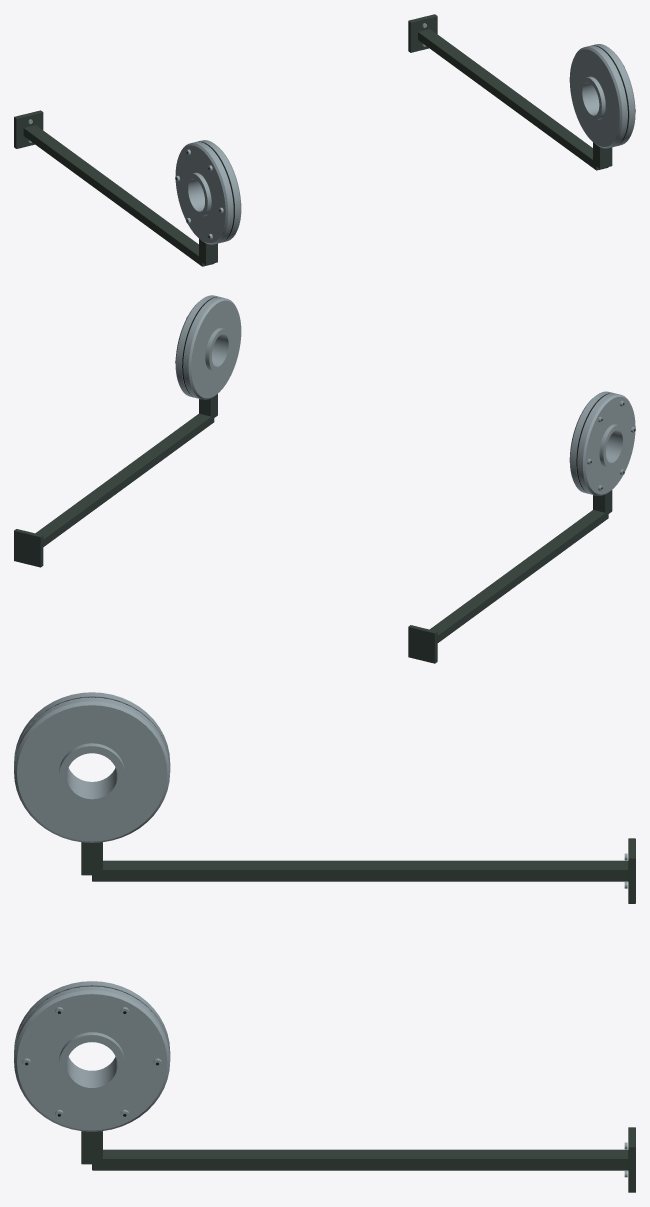
File: aerosense_uvc_static_detail_dark_v1.glb
The picture shows the model from 3 angles, top to bottom: view 1: azimuth 30°, elevation 25°; view 2: azimuth 150°, elevation 25°; view 3: azimuth 270°, elevation 25°; orthographic projection. The views are drawn at different scales.
Visible parts, largest first — view 1: UV_Flange_Left | batch Fluid | source_satin_steel, UV_Flange_Right | batch Fluid | source_satin_steel, UV_Mount_Right | batch Fluid | dark_structural_steel, UV_Mount_Left | batch Fluid | dark_structural_steel; view 2: UV_Flange_Right | batch Fluid | source_satin_steel, UV_Flange_Left | batch Fluid | source_satin_steel, UV_Mount_Left | batch Fluid | dark_structural_steel, UV_Mount_Right | batch Fluid | dark_structural_steel; view 3: UV_Flange_Left | batch Fluid | source_satin_steel, UV_Flange_Right | batch Fluid | source_satin_steel, UV_Mount_Right | batch Fluid | dark_structural_steel, UV_Mount_Left | batch Fluid | dark_structural_steel.
Part boxes in pixels (box(x1,y1,x2,y2)): UV_Flange_Left | batch Fluid | source_satin_steel: box(175, 140, 241, 244); UV_Flange_Right | batch Fluid | source_satin_steel: box(569, 44, 635, 148); UV_Mount_Right | batch Fluid | dark_structural_steel: box(408, 14, 612, 170); UV_Mount_Left | batch Fluid | dark_structural_steel: box(14, 110, 217, 266); UV_Flange_Right | batch Fluid | source_satin_steel: box(175, 295, 241, 399); UV_Flange_Left | batch Fluid | source_satin_steel: box(569, 391, 635, 495); UV_Mount_Left | batch Fluid | dark_structural_steel: box(408, 490, 612, 663); UV_Mount_Right | batch Fluid | dark_structural_steel: box(14, 394, 217, 567); UV_Flange_Left | batch Fluid | source_satin_steel: box(14, 692, 170, 842); UV_Flange_Right | batch Fluid | source_satin_steel: box(14, 981, 170, 1131); UV_Mount_Right | batch Fluid | dark_structural_steel: box(81, 1127, 635, 1192); UV_Mount_Left | batch Fluid | dark_structural_steel: box(81, 838, 635, 903).
Bounding box in the file's own units: 0.748 × 0.223 × 0.637.
